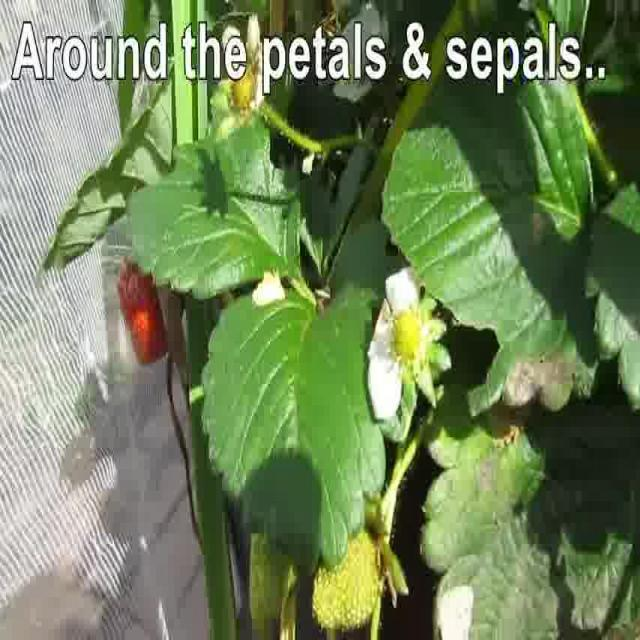Fruta sana: (306, 512, 404, 632), (116, 245, 176, 368), (248, 530, 302, 630)
